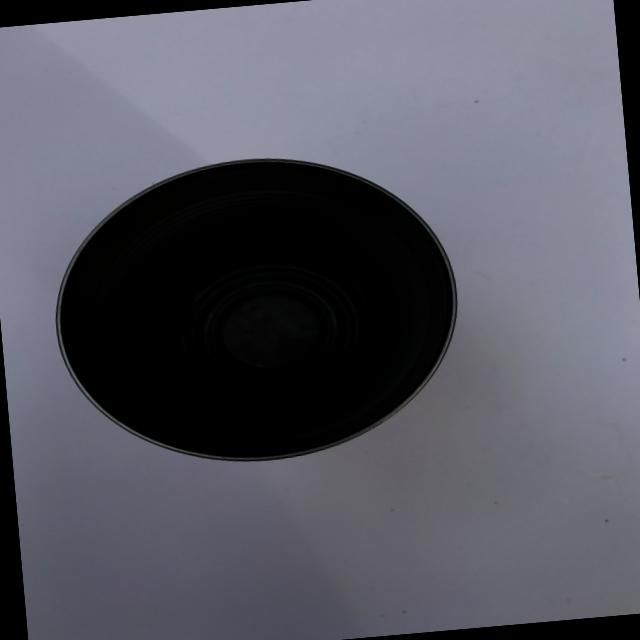Metal: (28, 130, 480, 484)
